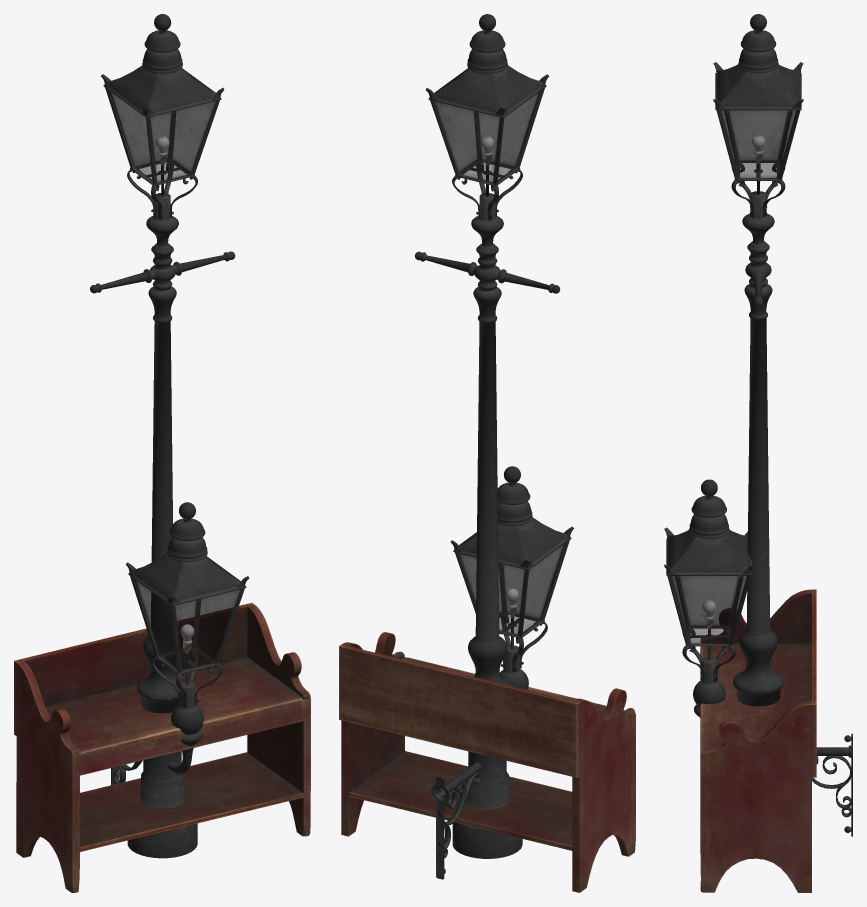
The model's file is park-assets.glb.
The picture shows the model from 3 angles, left to right: view 1: azimuth 30°, elevation 25°; view 2: azimuth 150°, elevation 25°; view 3: azimuth 270°, elevation 25°; orthographic projection.
Visible parts, largest first — view 1: bench, lamp, lamp_tall; view 2: bench, lamp, lamp_tall; view 3: bench, lamp, lamp_tall.
Part boxes in pixels (box(x1,y1,x2,y2)): bench: box(14, 602, 310, 892); lamp: box(90, 14, 235, 858); lamp_tall: box(111, 502, 249, 785); bench: box(339, 632, 635, 892); lamp: box(415, 14, 560, 858); lamp_tall: box(430, 466, 573, 879); bench: box(700, 589, 816, 892); lamp: box(713, 14, 803, 706); lamp_tall: box(664, 479, 852, 836).
Bounding box in the file's own units: 1.16 × 3.87 × 0.8068.
Materials: 7 (7 with a texture image).
